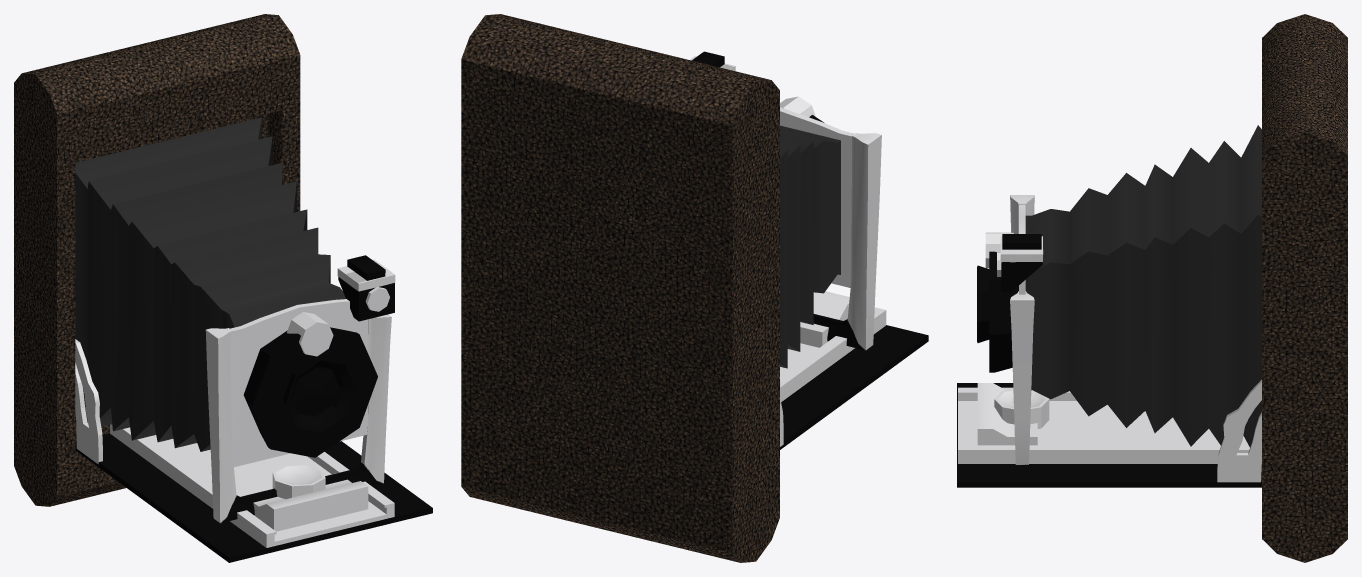
Rendered from camera.glb.
The picture shows the model from 3 angles, left to right: view 1: azimuth 30°, elevation 25°; view 2: azimuth 150°, elevation 25°; view 3: azimuth 270°, elevation 25°; orthographic projection. The views are drawn at different scales.
Parts seen in each view (by area): view 1: cameraGeo_grp camera_grp pCube3, cameraGeo_grp camera_grp pCube1, cameraGeo_grp camera_grp pCylinder14, cameraGeo_grp camera_grp pCube6, pCube2 cameraGeo_grp camera_grp, cameraGeo_grp camera_grp pCube4, cameraGeo_grp camera_grp pCube5, cameraGeo_grp camera_grp pCube7, cameraGeo_grp camera_grp pCube10, cameraGeo_grp camera_grp pCube8, cameraGeo_grp camera_grp pCylinder16, cameraGeo_grp camera_grp pCylinder15; view 2: cameraGeo_grp camera_grp pCube1, cameraGeo_grp camera_grp pCube3, cameraGeo_grp camera_grp pCube6, pCube2 cameraGeo_grp camera_grp, cameraGeo_grp camera_grp pCube5, cameraGeo_grp camera_grp pCube4, cameraGeo_grp camera_grp pCube7; view 3: cameraGeo_grp camera_grp pCube3, cameraGeo_grp camera_grp pCube1, cameraGeo_grp camera_grp pCube4, pCube2 cameraGeo_grp camera_grp, cameraGeo_grp camera_grp pCube6, cameraGeo_grp camera_grp pCylinder14, cameraGeo_grp camera_grp pCube9, cameraGeo_grp camera_grp pCube10, cameraGeo_grp camera_grp pCube7, cameraGeo_grp camera_grp pCylinder16.
Boxes of the visible parts, x1,y1,x2,y2 form: cameraGeo_grp camera_grp pCube3: [75, 117, 345, 451]; cameraGeo_grp camera_grp pCube1: [14, 14, 300, 506]; cameraGeo_grp camera_grp pCylinder14: [243, 327, 377, 457]; cameraGeo_grp camera_grp pCube6: [205, 314, 391, 523]; pCube2 cameraGeo_grp camera_grp: [75, 433, 432, 562]; cameraGeo_grp camera_grp pCube4: [110, 424, 394, 547]; cameraGeo_grp camera_grp pCube5: [230, 299, 368, 466]; cameraGeo_grp camera_grp pCube7: [244, 473, 368, 531]; cameraGeo_grp camera_grp pCube10: [337, 255, 395, 321]; cameraGeo_grp camera_grp pCube8: [75, 339, 102, 464]; cameraGeo_grp camera_grp pCylinder16: [272, 464, 325, 499]; cameraGeo_grp camera_grp pCylinder15: [287, 312, 333, 356]; cameraGeo_grp camera_grp pCube1: [461, 14, 779, 562]; cameraGeo_grp camera_grp pCube3: [780, 125, 840, 368]; cameraGeo_grp camera_grp pCube6: [813, 133, 881, 350]; pCube2 cameraGeo_grp camera_grp: [780, 325, 928, 449]; cameraGeo_grp camera_grp pCube5: [780, 107, 854, 287]; cameraGeo_grp camera_grp pCube4: [780, 307, 886, 401]; cameraGeo_grp camera_grp pCube7: [800, 291, 849, 347]; cameraGeo_grp camera_grp pCube3: [1025, 125, 1261, 447]; cameraGeo_grp camera_grp pCube1: [1262, 14, 1347, 562]; cameraGeo_grp camera_grp pCube4: [958, 387, 1249, 463]; pCube2 cameraGeo_grp camera_grp: [957, 383, 1261, 487]; cameraGeo_grp camera_grp pCube6: [1010, 195, 1034, 464]; cameraGeo_grp camera_grp pCylinder14: [977, 251, 1018, 372]; cameraGeo_grp camera_grp pCube9: [1217, 379, 1261, 482]; cameraGeo_grp camera_grp pCube10: [1000, 234, 1043, 291]; cameraGeo_grp camera_grp pCube7: [977, 383, 1037, 445]; cameraGeo_grp camera_grp pCylinder16: [994, 389, 1049, 428].
Size of the model in its own units: 0.00489 by 0.00827 by 0.00681.
Materials: 1 (1 with a texture image).
